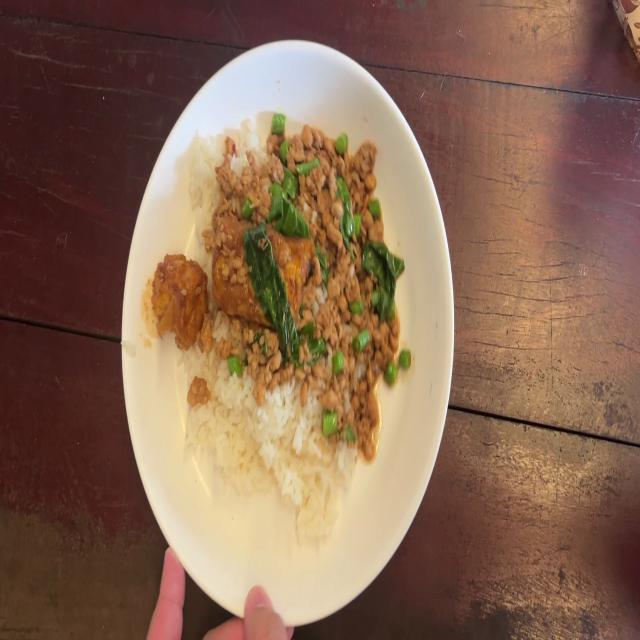01rice: (181, 380, 307, 486), (280, 460, 358, 549), (187, 128, 217, 232)
fried_tofo: (217, 222, 307, 318), (154, 252, 204, 341)
minced_pork: (308, 222, 400, 460), (241, 119, 392, 224), (221, 316, 311, 376), (221, 142, 239, 217)
stir_fried_basil: (157, 119, 411, 533)
